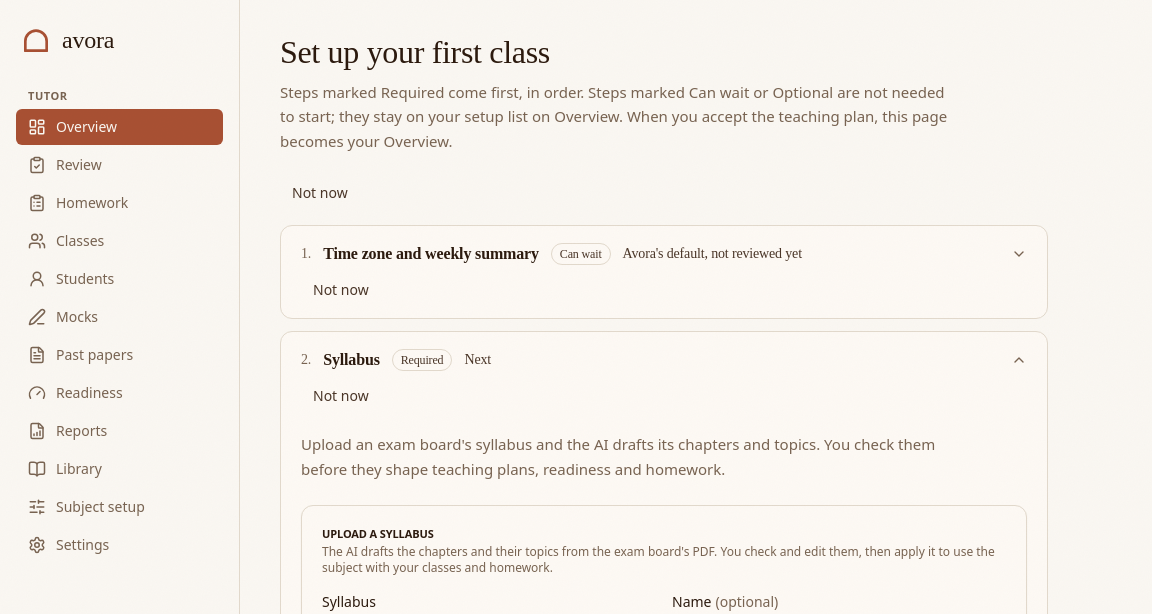
when every remaining step is skipped the guide goes and the plain Overview shows
Click the button with aria-label "Not now: Syllabus": (341, 396) [301,380,381,412]
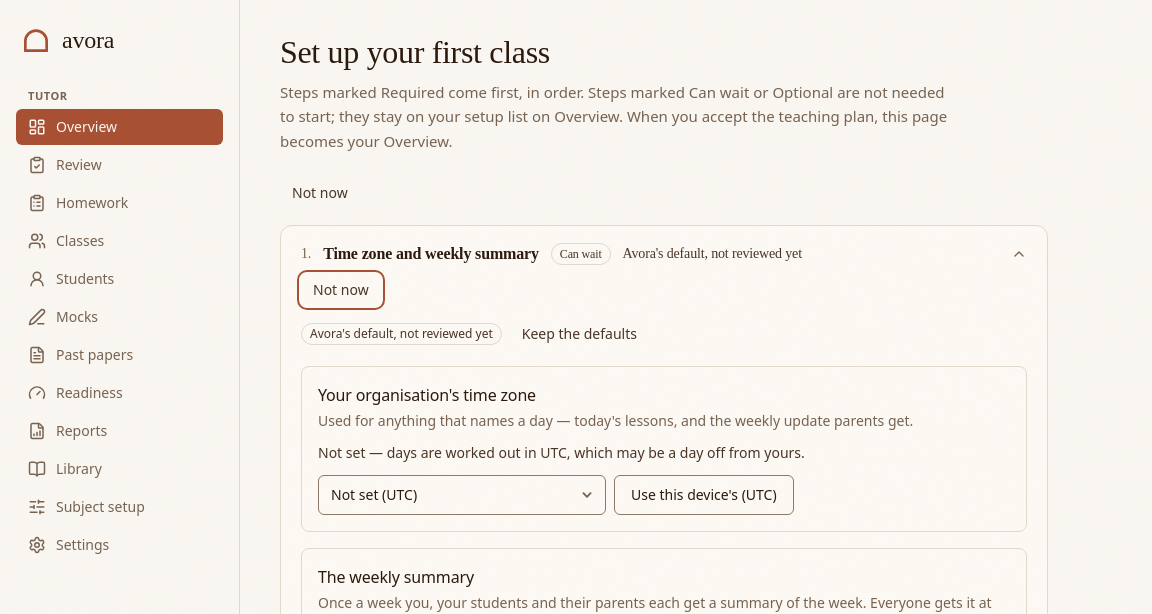
Click the button with aria-label "Not now: Time zone and weekly summary": (341, 290) [301,274,381,306]
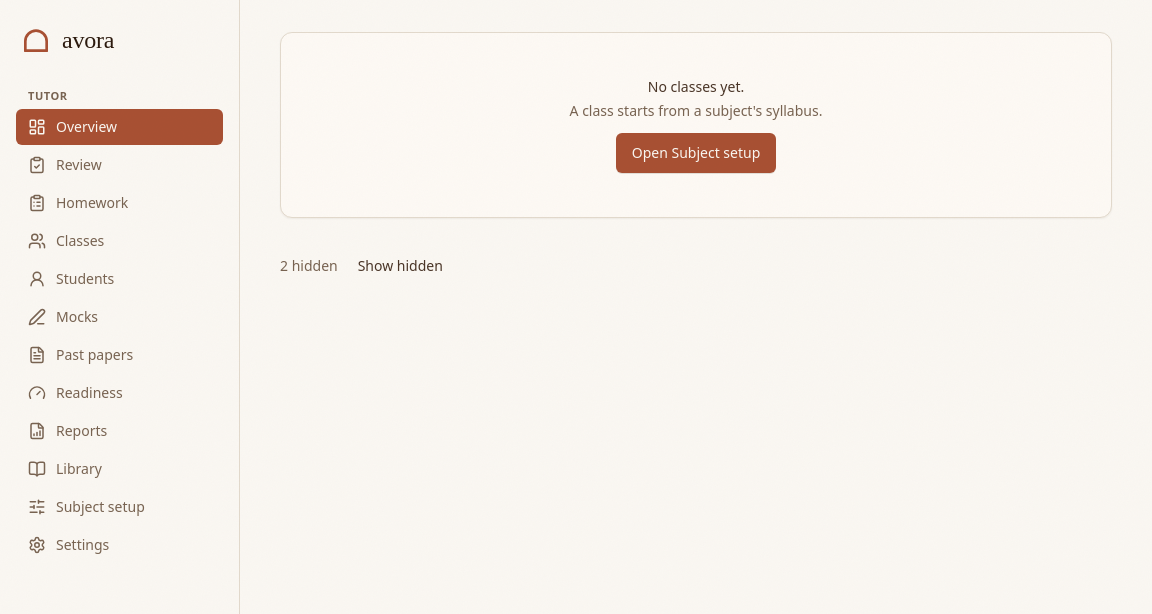
Check: the text "No classes yet." is shown, box [648,77,744,96]
Check: the heading "Set up your first class" is gone
Check: the text "2 hidden" is shown, box [280,250,455,282]
